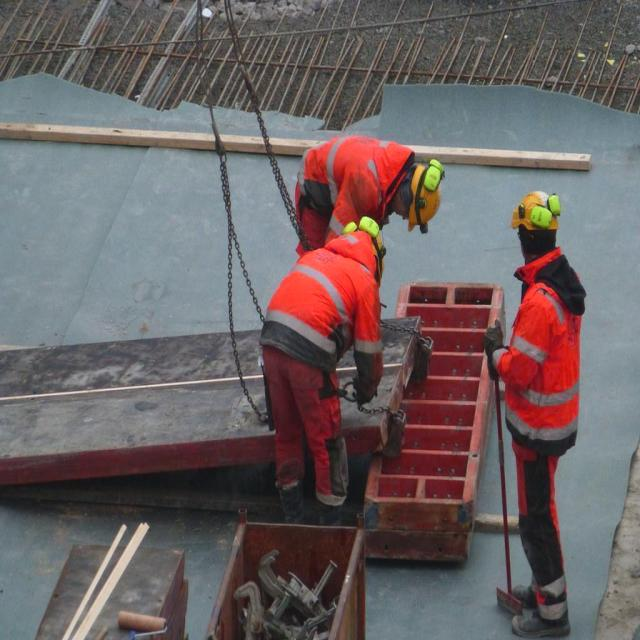hand_glove: (476, 316, 504, 375)
head_helmet: (407, 160, 442, 232), (512, 190, 562, 232)
person: (486, 191, 586, 640), (259, 222, 383, 524), (297, 135, 443, 256)
shoes: (506, 574, 580, 637)
vest: (502, 251, 583, 460), (266, 248, 376, 382), (294, 136, 414, 232)
